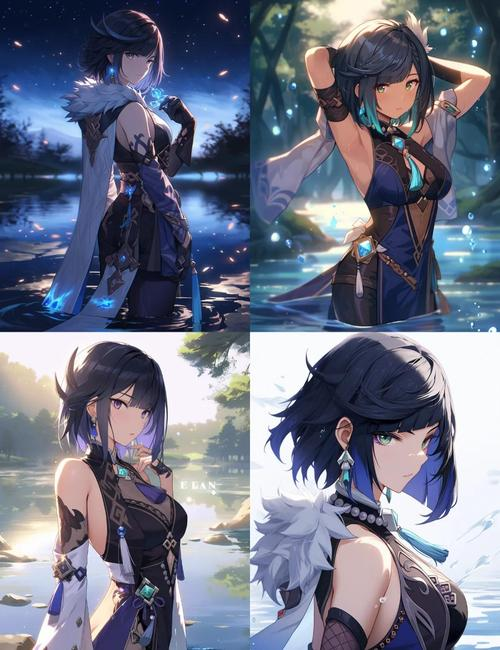夜兰: (269, 336, 471, 649), (300, 16, 490, 324), (28, 340, 192, 650), (49, 6, 197, 319)
